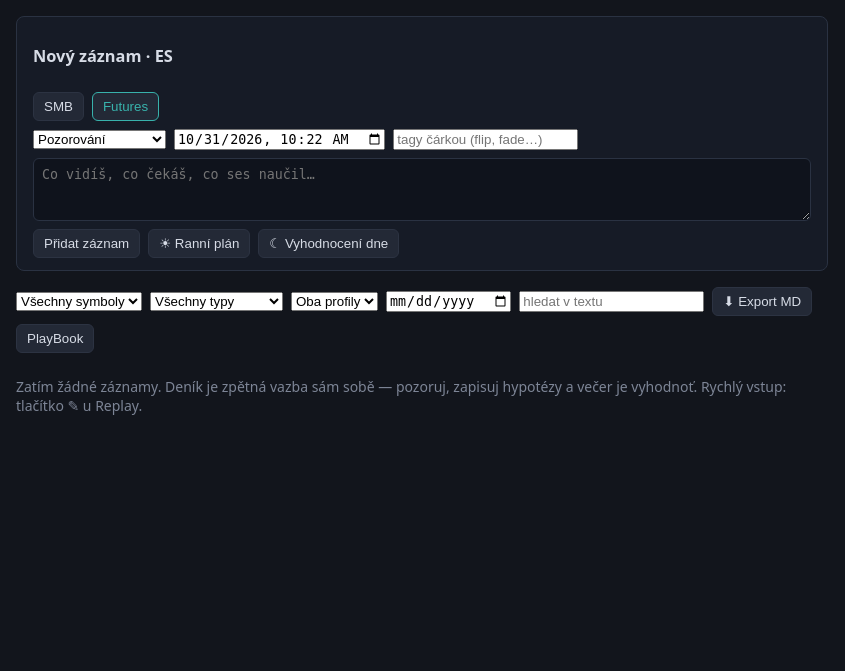
PlayBook ukáže setupy z playbooku (#710)
Click the button "PlayBook" at (55, 339), box [16,324,94,353]
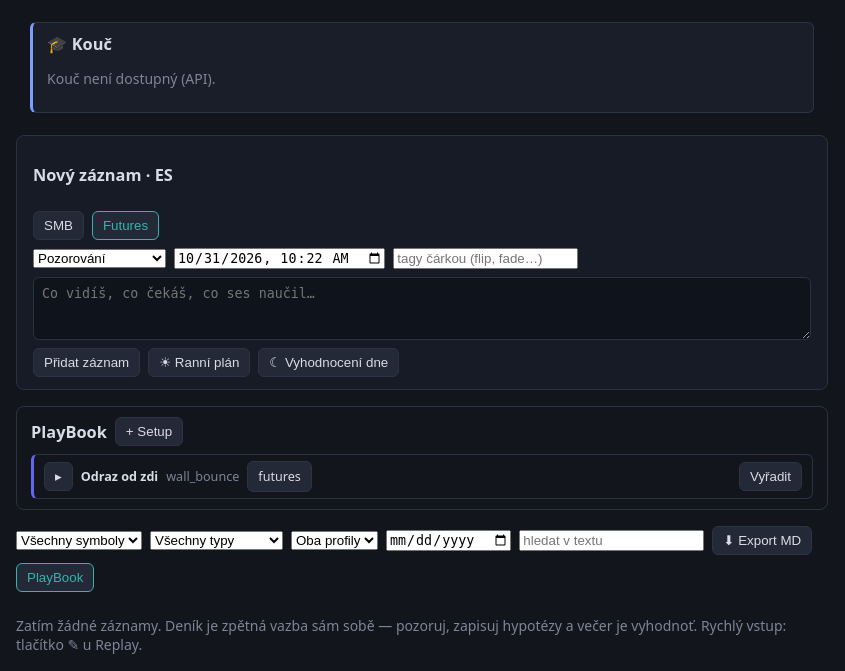
Check: the text "Odraz od zdi" is shown, box [81,468,158,485]
